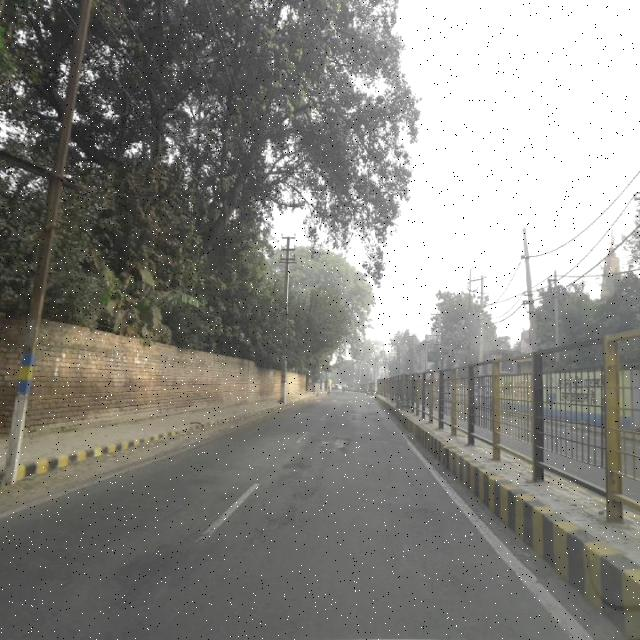D40: (264, 450, 316, 530), (317, 434, 351, 452)
D44: (189, 482, 263, 540)
